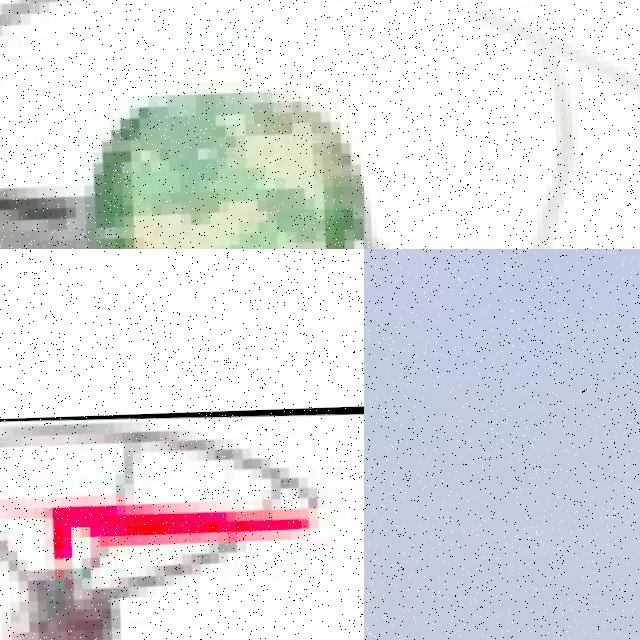drone: (0, 0, 364, 249), (0, 403, 364, 640)
